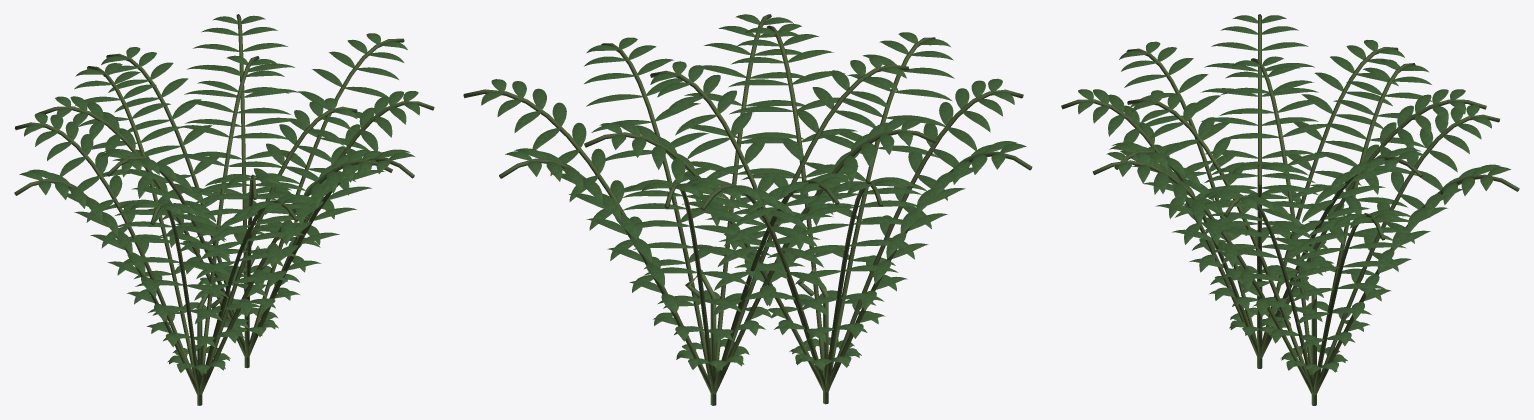
File: v6_fern.glb
The picture shows the model from 3 angles, left to right: view 1: azimuth 30°, elevation 25°; view 2: azimuth 150°, elevation 25°; view 3: azimuth 270°, elevation 25°; orthographic projection. The views are drawn at different scales.
Visible parts, largest first — view 1: forest_leaf_surface, forest_flexible_stem_surface, forest_new_leaf_surface; view 2: forest_leaf_surface, forest_flexible_stem_surface, forest_new_leaf_surface; view 3: forest_leaf_surface, forest_flexible_stem_surface, forest_new_leaf_surface.
Part boxes in pixels (box(x1,y1,x2,y2)): forest_leaf_surface: box(19, 15, 419, 374); forest_flexible_stem_surface: box(14, 14, 434, 395); forest_new_leaf_surface: box(197, 246, 266, 405); forest_leaf_surface: box(481, 14, 1026, 371); forest_flexible_stem_surface: box(463, 14, 1032, 394); forest_new_leaf_surface: box(685, 268, 828, 405); forest_leaf_surface: box(1078, 15, 1510, 375); forest_flexible_stem_surface: box(1061, 14, 1519, 395); forest_new_leaf_surface: box(1257, 256, 1316, 405).
Bounding box in the file's own units: 0.9693 × 0.5474 × 0.8398.
3 materials, 3 textured.
